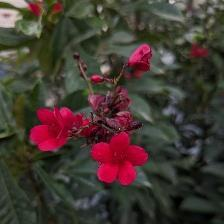jatropha: (90, 130, 149, 188)
